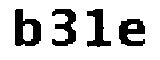1: (84, 6, 112, 49)
3: (48, 4, 81, 50)
b: (9, 6, 44, 51)
e: (115, 16, 148, 52)
